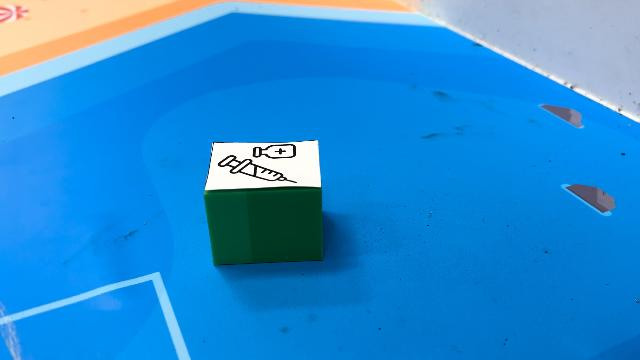syringe: (202, 142, 326, 266)
